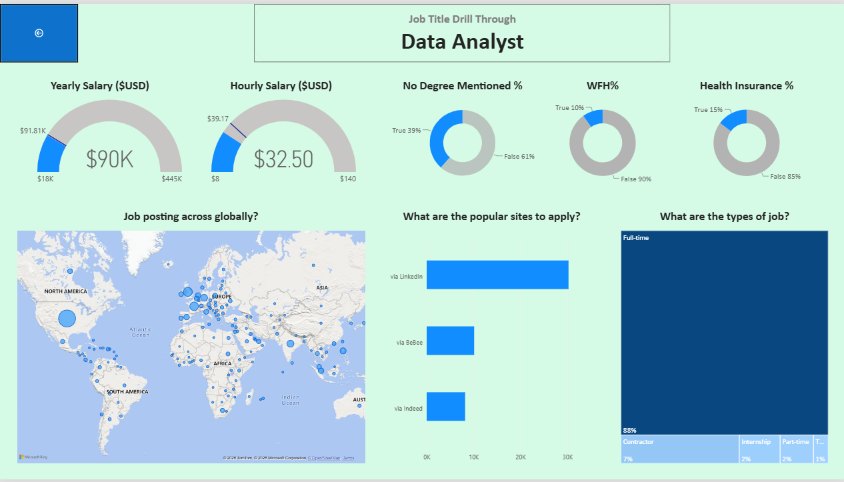

The dashboard page shown, as its layout file describes it:
{"tool":"powerbi","page":{"name":"Job Drill Through","canvas":[1920,1080],"ordinal":1},"visuals":[{"type":"cardVisual","fields":{"Data":["Min(job_postings_flat.job_title_short)1"]},"box":[577.5,0,945,132.5],"z":1000},{"type":"actionButton","box":[0,2.5,177.5,132.5],"z":2000},{"type":"gauge","title":"Yearly Salary ($USD)","fields":{"MaxValue":["Max(job_postings_flat.salary_year_avg)"],"MinValue":["Min(job_postings_flat.salary_year_avg)1"],"TargetValue":["Avg(job_postings_flat.salary_year_avg)"],"Y":["Median(job_postings_flat.salary_year_avg)"]},"box":[17.5,155,417.5,275],"z":3000},{"type":"gauge","title":"Hourly Salary ($USD)","fields":{"MaxValue":["Max(job_postings_flat.salary_hour_avg)2"],"MinValue":["Min(job_postings_flat.salary_hour_avg)1"],"TargetValue":["Avg(job_postings_flat.salary_hour_avg)3"],"Y":["Median(job_postings_flat.salary_hour_avg)"]},"box":[435,155,405,275],"z":4000},{"type":"donutChart","title":"No Degree Mentioned %","fields":{"Category":["job_postings_flat.job_no_degree_mention"],"Y":["CountNonNull(job_postings_flat.job_no_degree_mention)"]},"box":[862.5,155,375,275],"z":5000},{"type":"donutChart","title":"WFH%","fields":{"Category":["job_postings_flat.job_work_from_home"],"Y":["CountNonNull(job_postings_flat.job_work_from_home)"]},"box":[1167.5,155,402.5,275],"z":6000},{"type":"donutChart","title":"Health Insurance %","fields":{"Category":["job_postings_flat.job_health_insurance"],"Y":["CountNonNull(job_postings_flat.job_health_insurance)"]},"box":[1495,155,402.5,275],"z":7000},{"type":"map","title":"Job posting across globally?","fields":{"Category":["job_postings_flat.job_country"],"Size":["CountNonNull(job_postings_flat.job_title_short)"]},"box":[22.5,452.5,822.5,607.5],"z":8000},{"type":"barChart","title":"What are the popular sites to apply?","fields":{"Category":["job_postings_flat.job_via"],"Y":["CountNonNull(job_postings_flat.job_title_short)"]},"box":[862.5,452.5,507.5,607.5],"z":9000},{"type":"treemap","title":"What are the types of job?","fields":{"Group":["job_postings_flat.job_schedule_type"],"Values":["CountNonNull(job_postings_flat.job_schedule_type)"]},"box":[1395,452.5,502.5,607.5],"z":10000}]}

Visuals, with their boxes in screenshot pixels (x1, y1, x2, y2), scaled from the page's 1920x1080 canvas onto the 844x482 screenshot:
cardVisual - Min(job_postings_flat.job_title_short)1: region(254, 0, 669, 59)
actionButton: region(0, 1, 78, 60)
"Yearly Salary ($USD)" gauge: region(8, 69, 191, 192)
"Hourly Salary ($USD)" gauge: region(191, 69, 369, 192)
"No Degree Mentioned %" donutChart: region(379, 69, 544, 192)
"WFH%" donutChart: region(513, 69, 690, 192)
"Health Insurance %" donutChart: region(657, 69, 834, 192)
"Job posting across globally?" map: region(10, 202, 371, 473)
"What are the popular sites to apply?" barChart: region(379, 202, 602, 473)
"What are the types of job?" treemap: region(613, 202, 834, 473)
